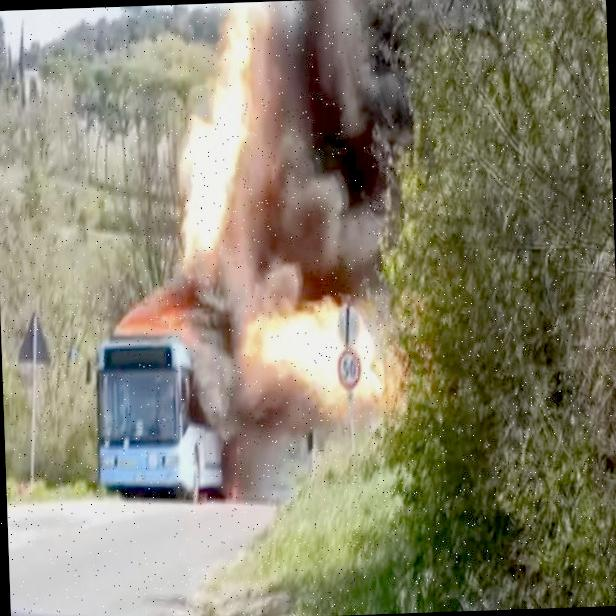smoke: (232, 0, 525, 317)
